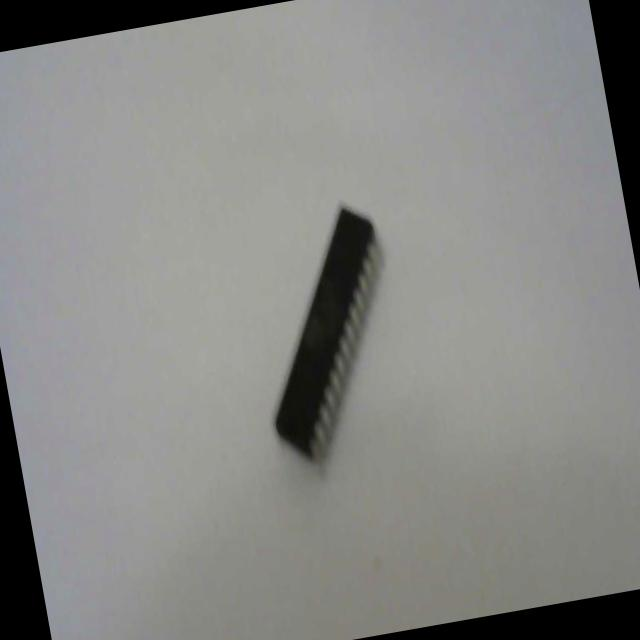atmega: (235, 193, 421, 478)
